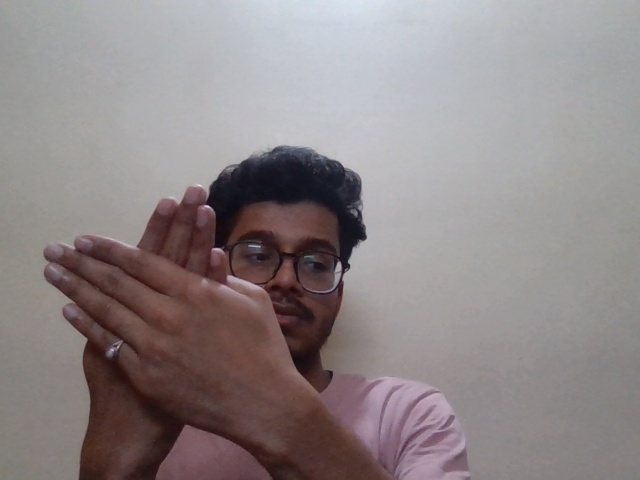what: (24, 183, 293, 422)
